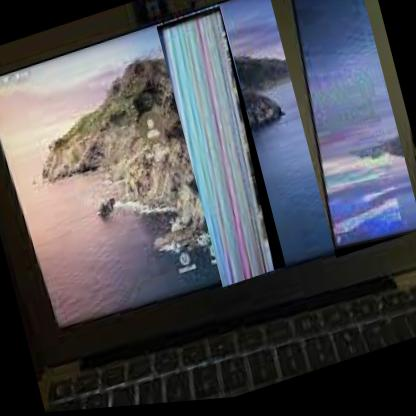fade: (266, 0, 415, 270)
lines: (155, 5, 286, 297)
